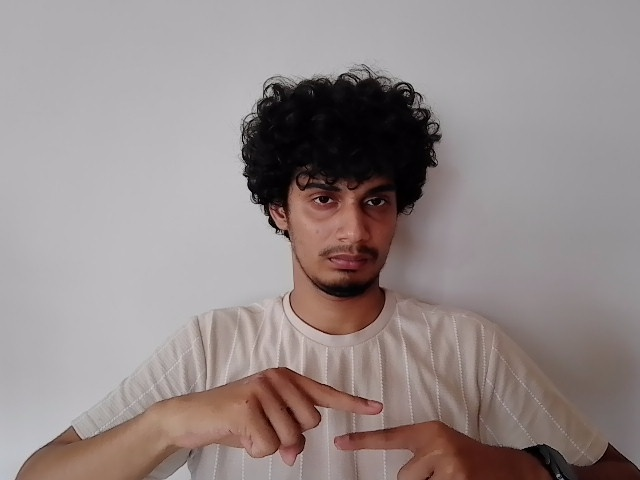about: (168, 365, 540, 480)
